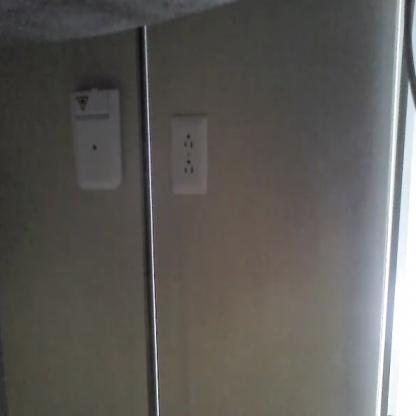OUTLET: (172, 116, 207, 194)
